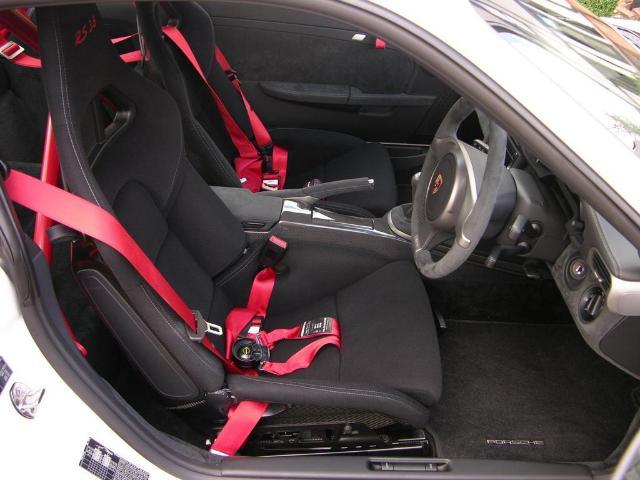Seatbelt: (0, 168, 342, 456), (0, 5, 282, 198)
